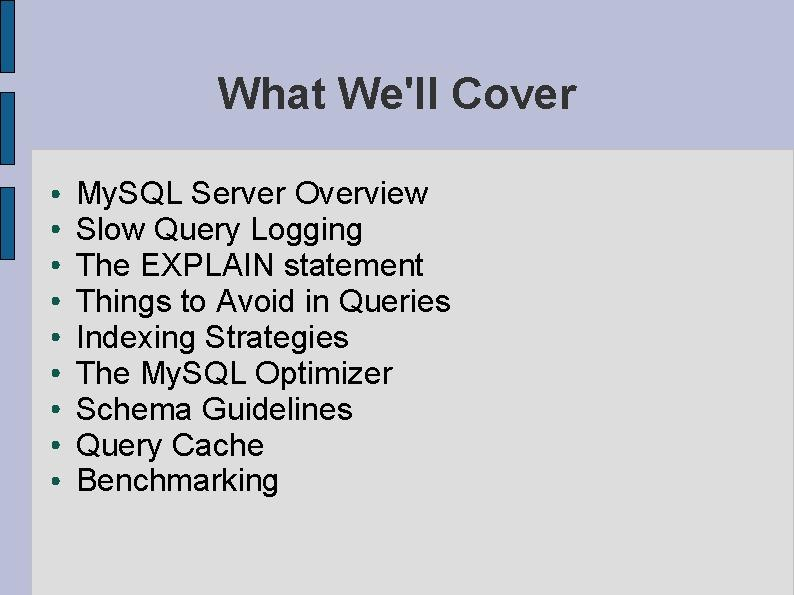paragraph: (65, 168, 590, 508)
title: (211, 67, 596, 136)
